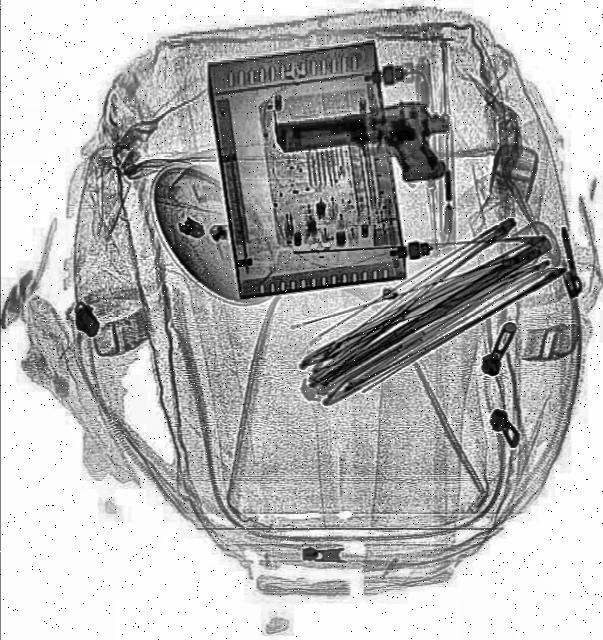Gun: (270, 96, 456, 198)
